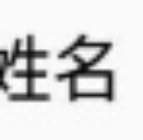TextView: (1, 1, 142, 139)
